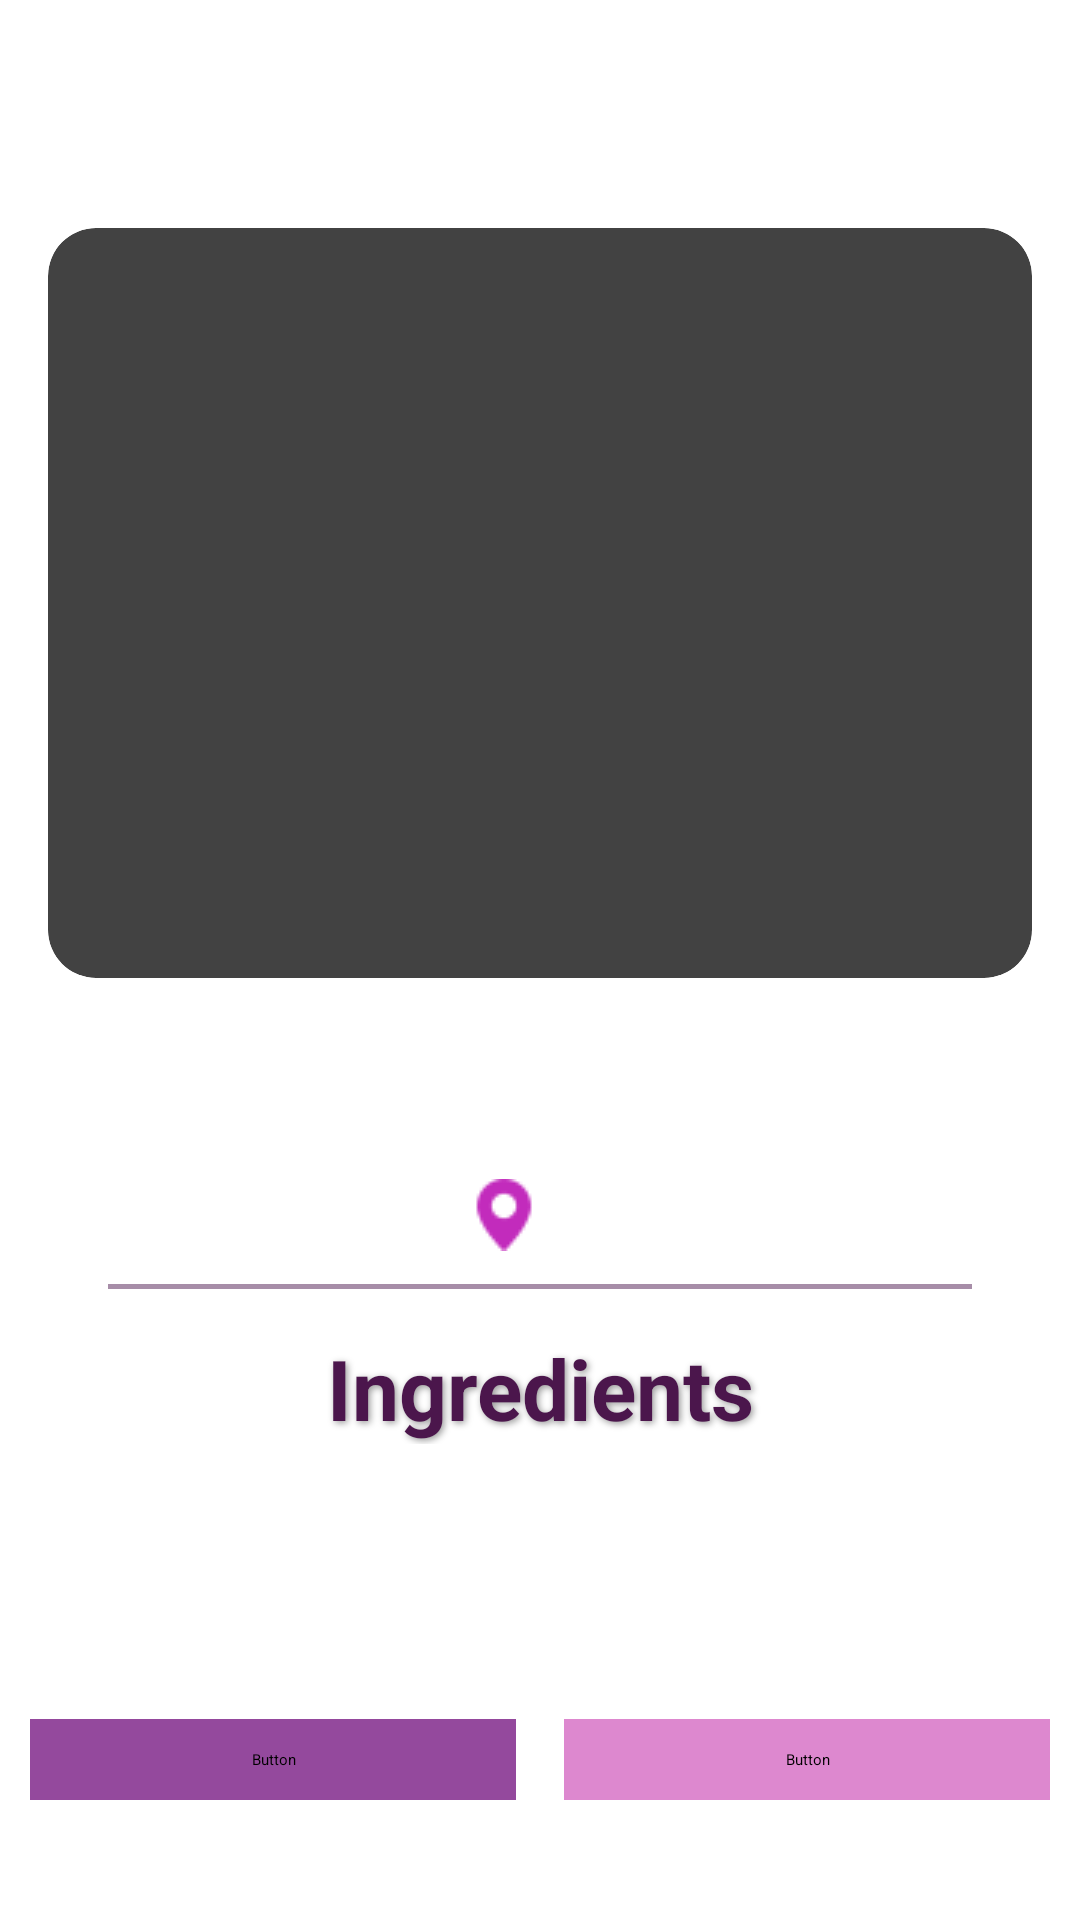

Where to tap for icons on this 1080w x 1920h app screen, as point (x, y):
map: point (504, 1215)
